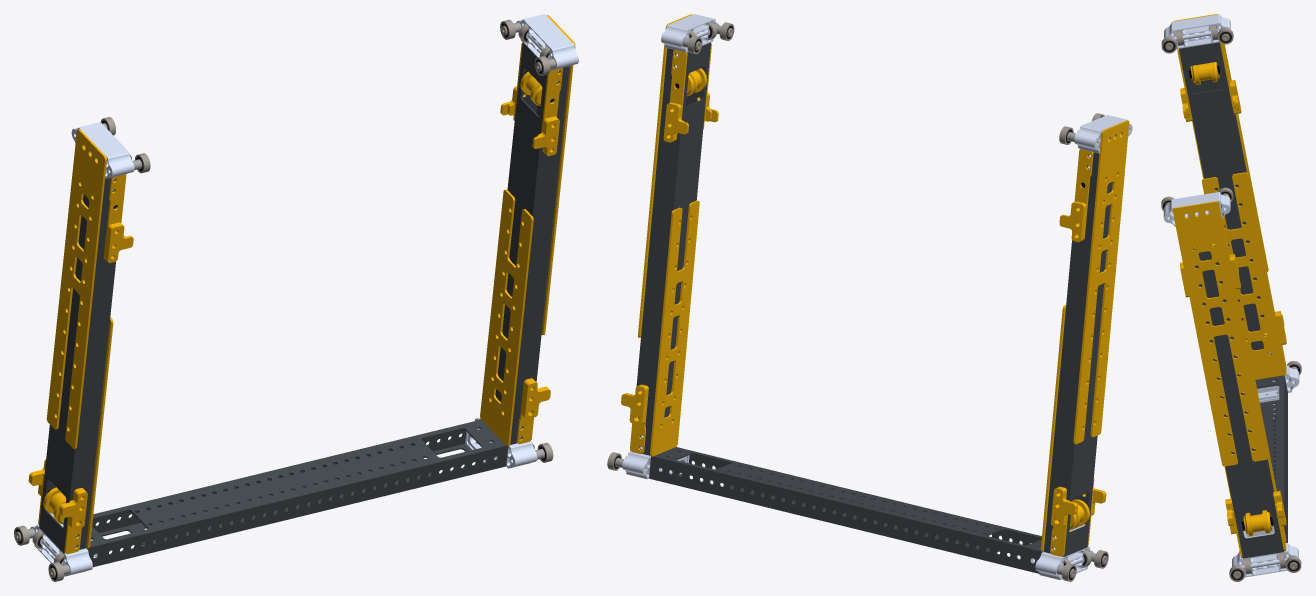
The picture shows the model from 3 angles, left to right: view 1: azimuth 30°, elevation 25°; view 2: azimuth 150°, elevation 25°; view 3: azimuth 270°, elevation 25°; orthographic projection. The views are drawn at different scales.
Parts seen in each view (by area): view 1: Stage 1 Horizontal Tube, Stage 1 Vertical Tube L, Part 40 (×2), Stage 1 Vertical Tube R, Part 42 (×2), WCP-0199-001 Rev2 (×3), Elevator Bracket Long Top (×2), Elevator L Stop (Bolt) (×2), Elevator L Stop 2(Special), Elevator L Stop 1(Special); view 2: Stage 1 Horizontal Tube, Stage 1 Vertical Tube L, Stage 1 Vertical Tube R, Part 40 (×2), Part 42 (×2), WCP-0199-001 Rev2 (×3), Elevator Bracket Long Top (×2), Elevator L Stop (Bolt) (×2), Elevator L Stop 1(Special), Elevator L Stop 2(Special); view 3: Part 40 (×2), Stage 1 Vertical Tube R, Stage 1 Vertical Tube L, Part 42 (×2), WCP-0199-001 Rev2 (×4), Stage 1 Horizontal Tube, Small Pulley (×2), Elevator L Stop (Bolt) (×3), Elevator L Stop 2(Special) (×2), WCP-0374, Elevator L Stop 1(Special), Elevator Bracket Long Top.
Part boxes in pixels (x1,y1,x2,y2): Stage 1 Horizontal Tube: (87, 419, 508, 567); Stage 1 Vertical Tube L: (491, 43, 569, 444); Part 40 (×2): (46, 15, 575, 449); Stage 1 Vertical Tube R: (39, 178, 117, 553); Part 42 (×2): (86, 189, 533, 548); WCP-0199-001 Rev2 (×3): (30, 14, 578, 576); Elevator Bracket Long Top (×2): (103, 68, 562, 258); Elevator L Stop (Bolt) (×2): (59, 379, 550, 529); Elevator L Stop 2(Special): (105, 222, 133, 262); Elevator L Stop 1(Special): (532, 116, 559, 156); Stage 1 Horizontal Tube: (649, 447, 1042, 573); Stage 1 Vertical Tube L: (636, 42, 710, 455); Stage 1 Vertical Tube R: (1043, 152, 1114, 556); Part 40 (×2): (638, 14, 1129, 444); Part 42 (×2): (650, 200, 1065, 551); WCP-0199-001 Rev2 (×3): (661, 14, 1132, 580); Elevator Bracket Long Top (×2): (669, 50, 1093, 240); Elevator L Stop (Bolt) (×2): (621, 385, 1077, 527); Elevator L Stop 1(Special): (1059, 201, 1086, 242); Elevator L Stop 2(Special): (663, 102, 688, 142); Part 40 (×2): (1172, 14, 1268, 466); Stage 1 Vertical Tube R: (1179, 42, 1271, 354); Stage 1 Vertical Tube L: (1191, 245, 1284, 558); Part 42 (×2): (1202, 172, 1286, 542); WCP-0199-001 Rev2 (×4): (1163, 14, 1299, 577); Stage 1 Horizontal Tube: (1255, 375, 1287, 542); Small Pulley (×2): (1190, 62, 1272, 536); Elevator L Stop (Bolt) (×3): (1225, 311, 1286, 534); Elevator L Stop 2(Special) (×2): (1180, 88, 1240, 289); WCP-0374: (1257, 386, 1279, 400); Elevator L Stop 1(Special): (1230, 80, 1241, 113); Elevator Bracket Long Top: (1220, 42, 1235, 114).
Bounding box in the file's own units: 0.5745 × 0.5073 × 0.1715.
